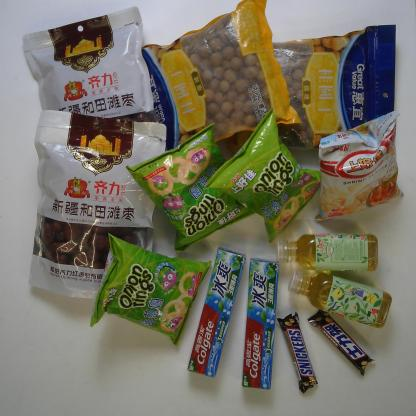Chocolate: (306, 310, 375, 378), (276, 312, 318, 394)
Dried Food: (125, 0, 304, 154), (28, 109, 168, 300), (21, 4, 159, 166), (252, 23, 396, 153)
Drink: (287, 266, 394, 330), (275, 232, 379, 272)
Personal Hygiene: (185, 247, 246, 379), (241, 257, 280, 392)
Puffed Food: (124, 122, 256, 254), (201, 106, 322, 243), (89, 232, 212, 346), (313, 109, 405, 225)
